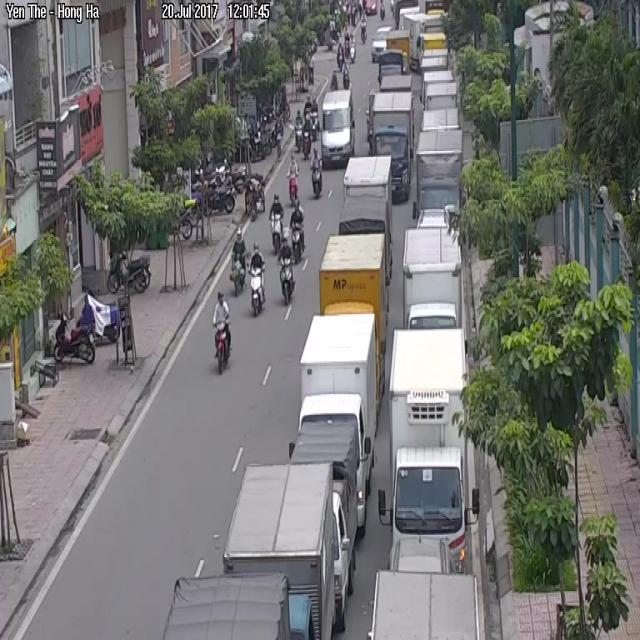car: (212, 290, 231, 372), (230, 233, 246, 295), (250, 249, 265, 314), (279, 239, 294, 302), (270, 196, 283, 253), (291, 204, 304, 261), (311, 148, 322, 197), (288, 157, 298, 206), (302, 111, 311, 159), (295, 111, 302, 151)
traffic-light: (321, 90, 352, 167)
truck: (219, 440, 352, 640), (389, 318, 473, 573), (298, 303, 381, 516), (401, 220, 464, 326), (368, 89, 414, 197)
